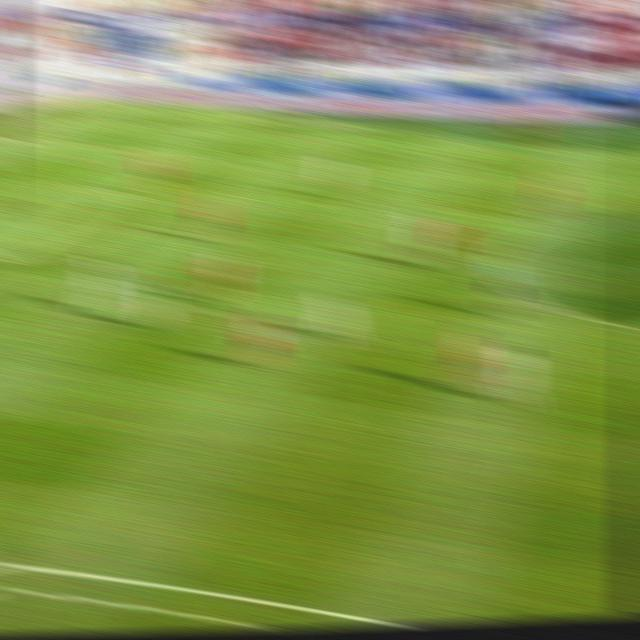bigarea_top_inner: (177, 141, 206, 163)
bigarea_top_outter: (0, 127, 20, 147)
bottom_arc_area_intersection: (0, 241, 20, 265)
corner: (70, 99, 101, 117)
top_arc_area_intersection: (104, 180, 138, 203)
